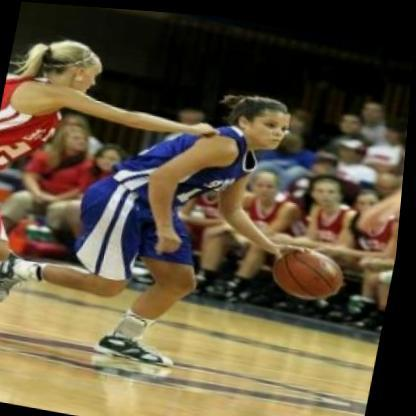basketball: (265, 230, 356, 306)
